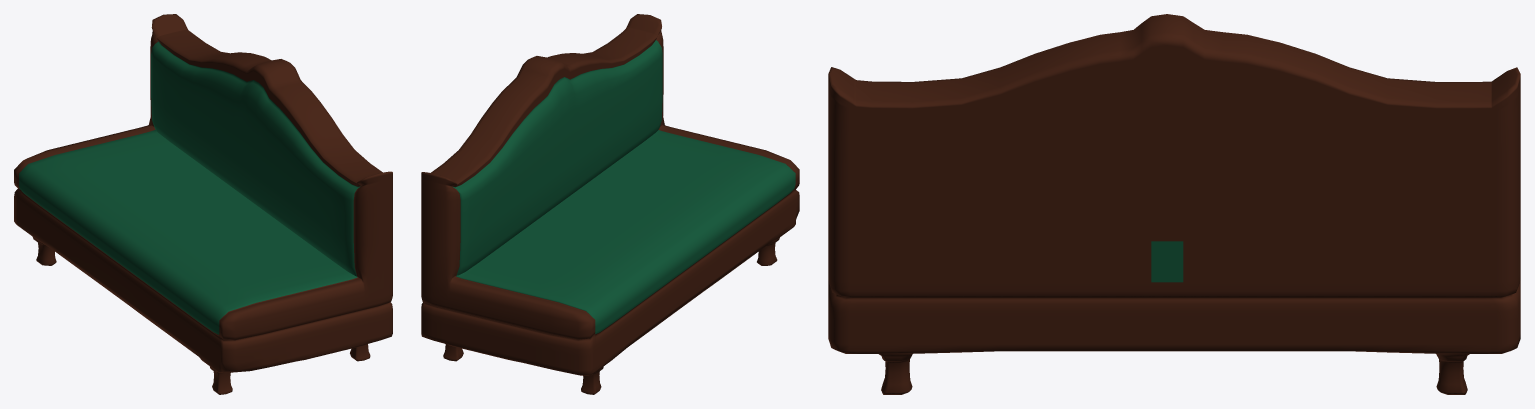
Rendered from couch.fbx.
The picture shows the model from 3 angles, left to right: view 1: azimuth 30°, elevation 25°; view 2: azimuth 150°, elevation 25°; view 3: azimuth 270°, elevation 25°; orthographic projection. The views are drawn at different scales.
Visible parts, largest first — view 1: pCube2; view 2: pCube2; view 3: pCube2.
Boxes of the visible parts, left/top/right/bottom form: pCube2: left=14, top=14, right=392, bottom=394; pCube2: left=421, top=14, right=799, bottom=394; pCube2: left=828, top=14, right=1520, bottom=394.
Size of the model in its own units: 2.68 by 3.51 by 5.96.
